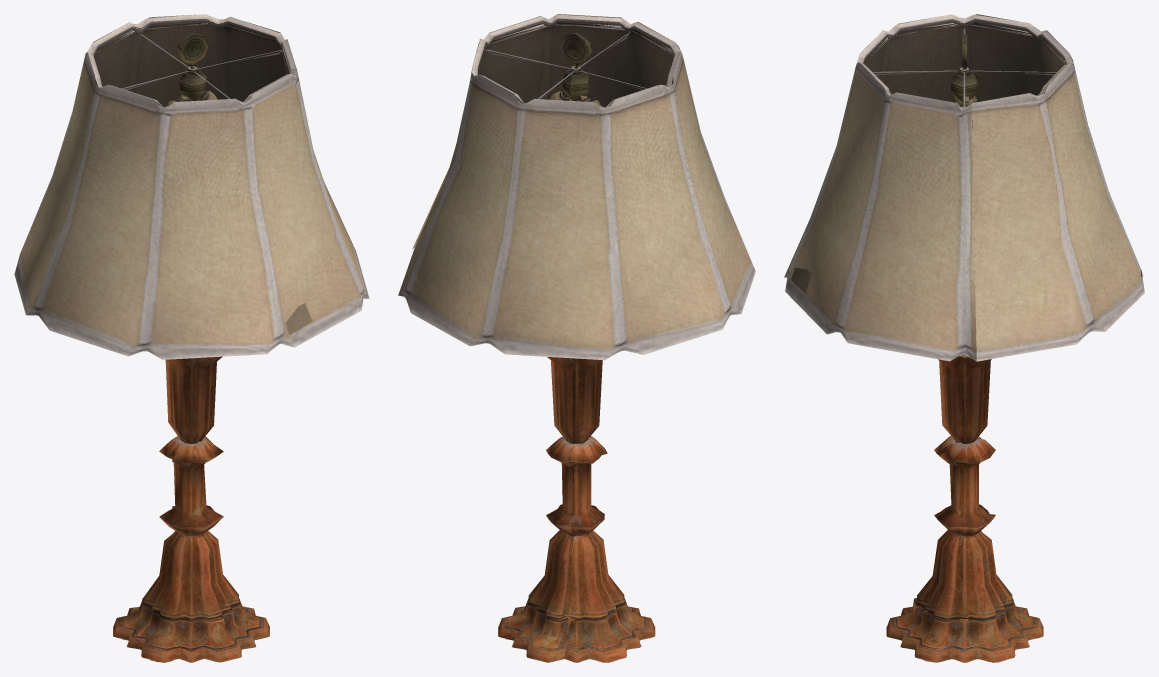
Rendered from TableLamp.glb.
3 renders of one model, left to right at view 1: azimuth 30°, elevation 25°; view 2: azimuth 150°, elevation 25°; view 3: azimuth 270°, elevation 25°, orthographic.
Visible parts, largest first — view 1: 1920s Table Lamp Type AA_0; view 2: 1920s Table Lamp Type AA_0; view 3: 1920s Table Lamp Type AA_0.
Part boxes in pixels (box(x1,y1,x2,y2)): 1920s Table Lamp Type AA_0: box(14, 14, 369, 662); 1920s Table Lamp Type AA_0: box(398, 14, 755, 662); 1920s Table Lamp Type AA_0: box(784, 14, 1144, 662).
Size of the model in its own units: 0.4525 by 0.8264 by 0.4493.
Materials: 1 (1 with a texture image).
